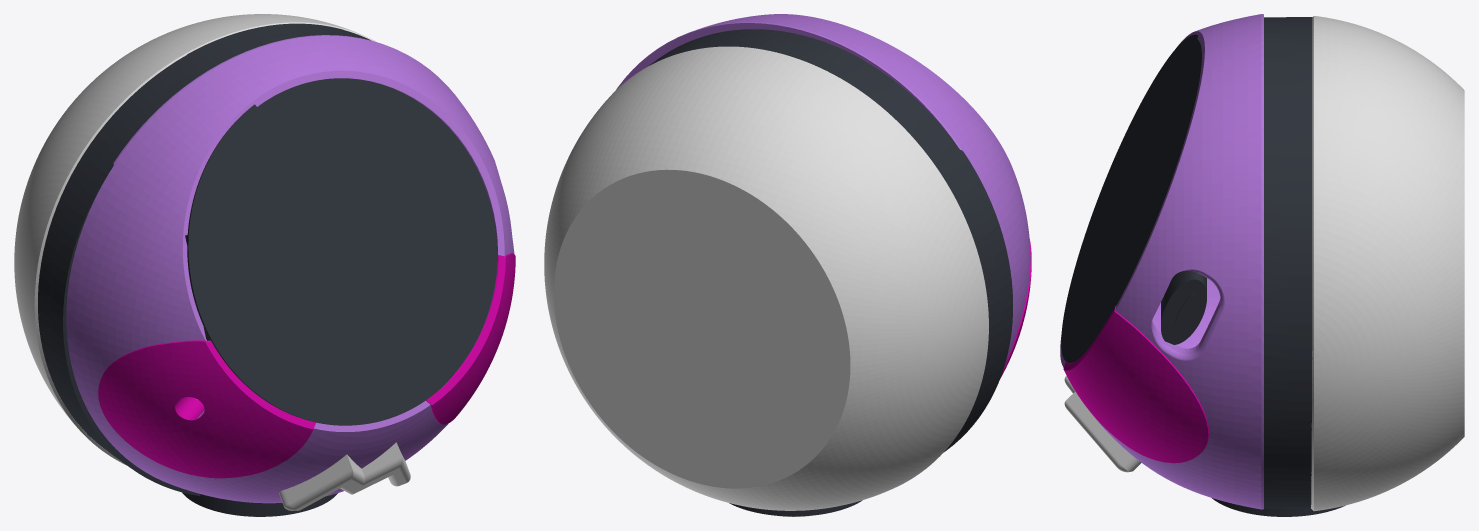
File: poketama-master-screen.glb
3 views of the same model, side by side, from view 1: azimuth 30°, elevation 25°; view 2: azimuth 150°, elevation 25°; view 3: azimuth 270°, elevation 25° (orthographic).
Bounding box in the file's own units: 1.93 × 2 × 1.56.
